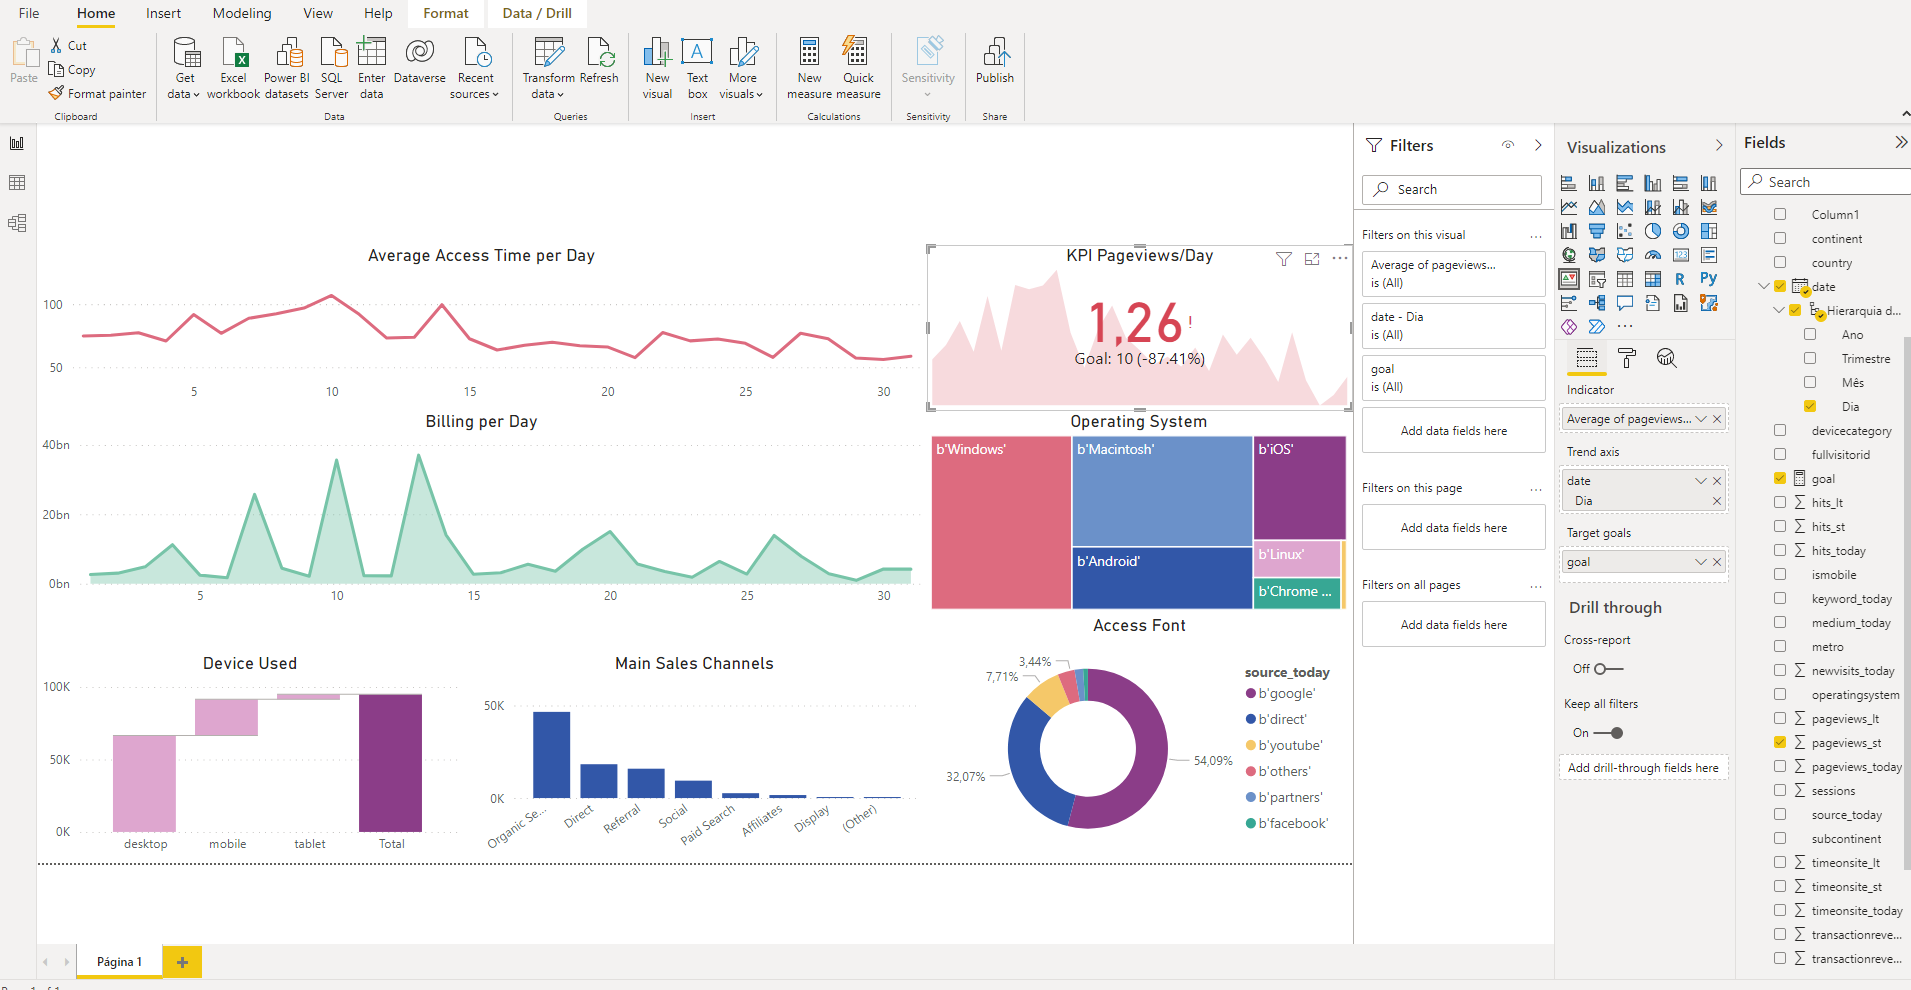

This screenshot's page, from the dashboard's own definition file:
{"tool":"powerbi","page":{"name":"Página 1","canvas":[1280,720],"ordinal":0},"visuals":[{"type":"columnChart","title":"Main Sales Channels","fields":{"Y":["CountNonNull(dataset.fullvisitorid)"],"Category":["dataset.channelgrouping"]},"box":[414.3,515.5,450.3,204.3],"z":0},{"type":"lineChart","title":"Average Access Time per Day","fields":{"Category":["dataset.date.Variation.Hierarquia de datas.Dia"],"Y":["Avg(dataset.timeonsite_st)"]},"box":[0,140.1,864.7,161.5],"z":1000},{"type":"donutChart","title":"Access Font","fields":{"Category":["dataset.source_today"],"Y":["CountNonNull(dataset.fullvisitorid)"]},"box":[864.7,478.5,415.3,241.2],"z":2000},{"type":"treemap","title":"Operating System","fields":{"Group":["dataset.operatingsystem"],"Values":["CountNonNull(dataset.fullvisitorid)"]},"box":[864.7,301.5,414.3,177],"z":3000},{"type":"waterfallChart","title":"Device Used","fields":{"Y":["CountNonNull(dataset.fullvisitorid)"],"Category":["dataset.devicecategory"]},"box":[0,515.5,414.3,204.3],"z":3001},{"type":"areaChart","title":"Billing per Day","fields":{"Category":["dataset.date.Variation.Hierarquia de datas.Dia"],"Y":["Sum(dataset.transactionrevenue_st)"]},"box":[0,301.5,864.7,176],"z":3002},{"type":"kpi","title":"KPI Pageviews/Day","fields":{"TrendLine":["dataset.date.Variation.Hierarquia de datas.Dia"],"Indicator":["Avg(dataset.pageviews_st)"],"Goal":["dataset.goal"]},"box":[864.7,140.1,414.3,161.5],"z":3003},{"type":"shape","box":[1,45.7,1279,12.6],"z":3004},{"type":"textbox","box":[296.7,0,685.7,45.7],"z":3005},{"type":"slicer","title":"Country","fields":{"Values":["dataset.country"]},"box":[1.9,58.4,1278.1,81.7],"z":3006}]}

Visuals, with their boxes on the page's 1280x720 design canvas (x1, y1, x2, y2). These are canvas units, not pixel positions in the 1911x990 screenshot, which may show the page scaled, cropped or inside an application window:
"Main Sales Channels" columnChart: bbox=(414, 516, 865, 720)
"Average Access Time per Day" lineChart: bbox=(0, 140, 865, 302)
"Access Font" donutChart: bbox=(865, 478, 1280, 720)
"Operating System" treemap: bbox=(865, 302, 1279, 478)
"Device Used" waterfallChart: bbox=(0, 516, 414, 720)
"Billing per Day" areaChart: bbox=(0, 302, 865, 478)
"KPI Pageviews/Day" kpi: bbox=(865, 140, 1279, 302)
shape: bbox=(1, 46, 1280, 58)
textbox: bbox=(297, 0, 982, 46)
"Country" slicer: bbox=(2, 58, 1280, 140)
